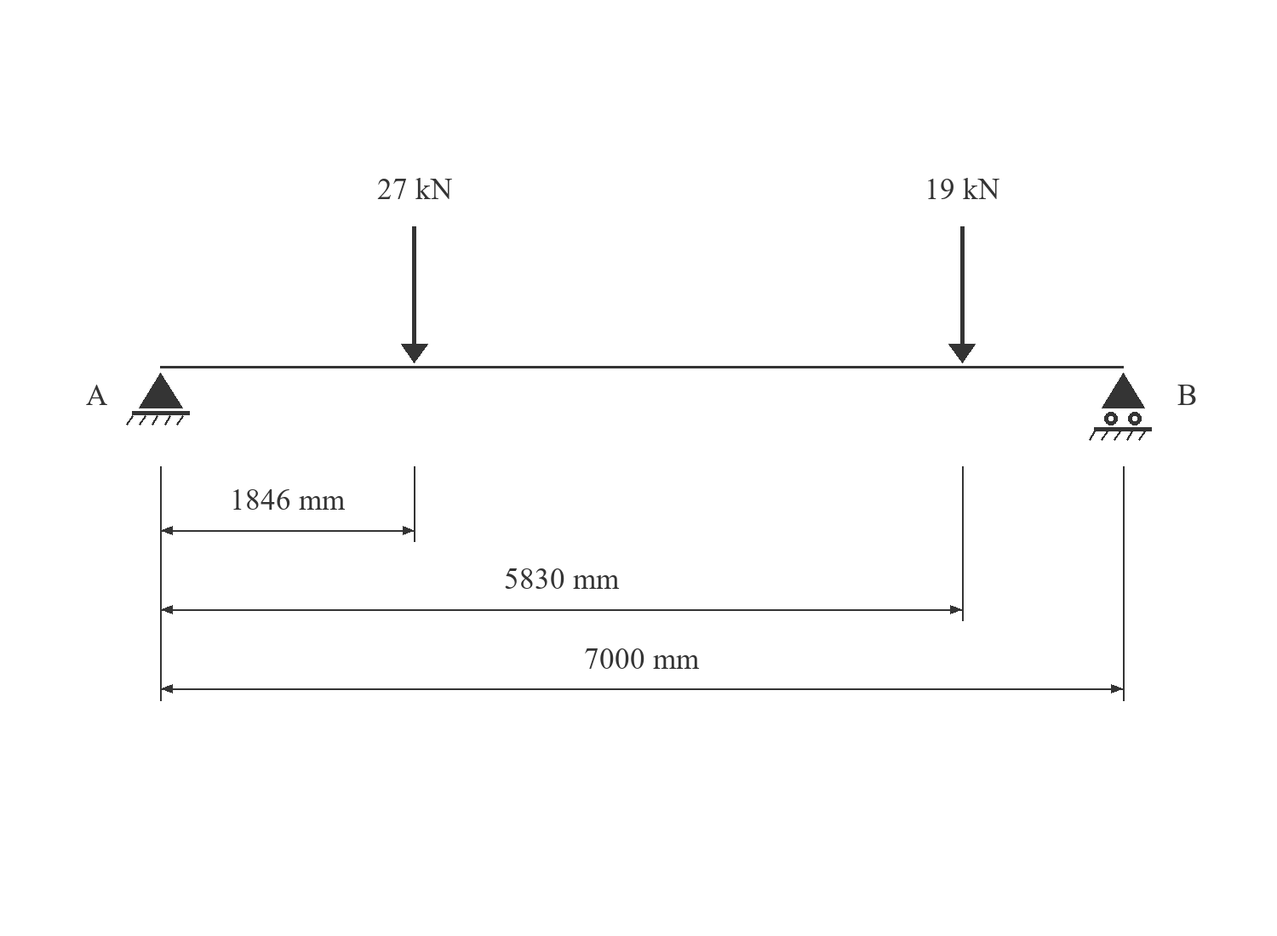pin_support: (126, 373, 190, 425)
point_load: (948, 226, 976, 363), (401, 226, 428, 363)
roller_support: (1089, 373, 1152, 441)
